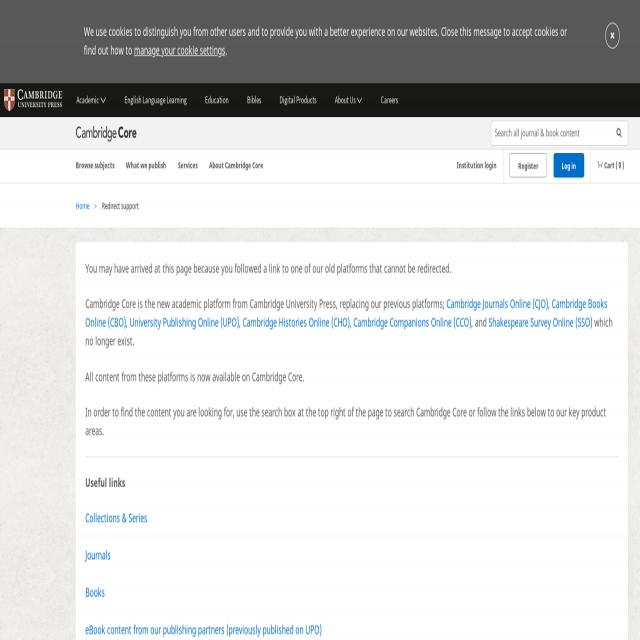button: (124, 83, 187, 116), (4, 88, 62, 110), (591, 150, 629, 182), (280, 83, 316, 116), (76, 83, 106, 116), (509, 153, 547, 178), (335, 83, 362, 116), (205, 83, 229, 116), (554, 153, 584, 178), (381, 83, 398, 116), (247, 83, 261, 116), (605, 22, 620, 49)
field: (492, 121, 628, 145)
